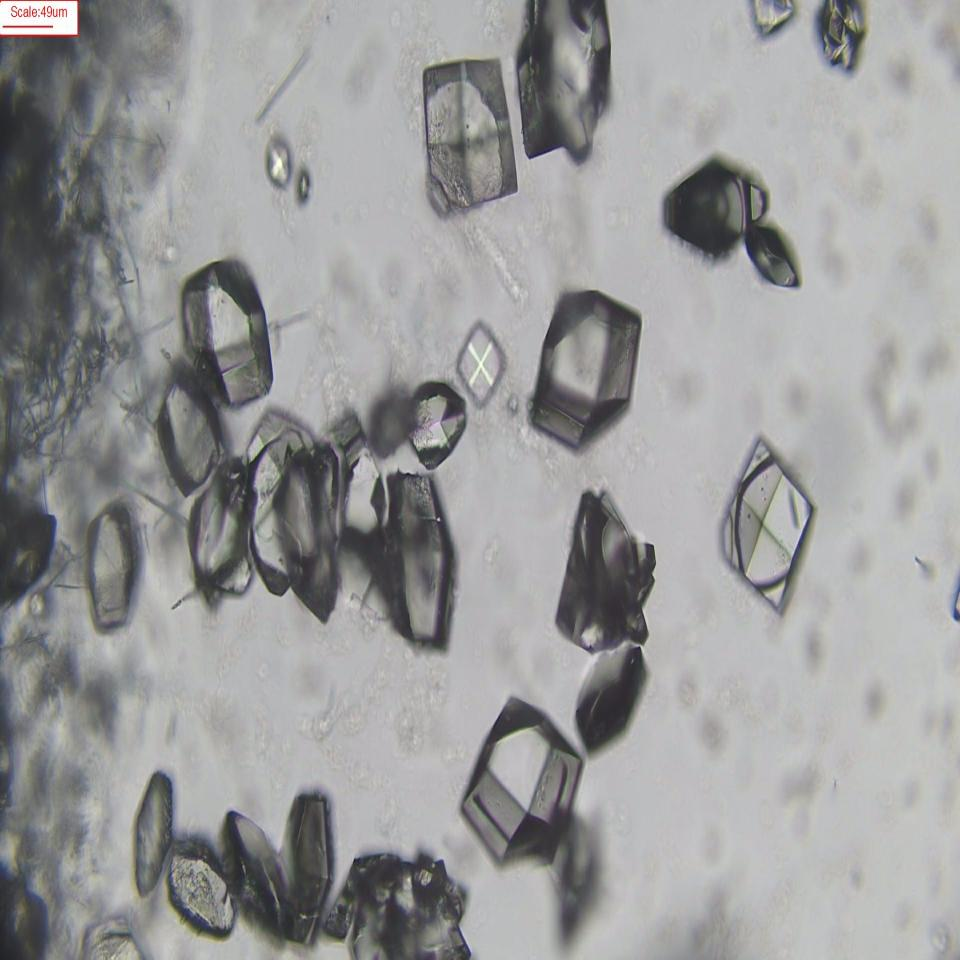crystal: (544, 473, 662, 661), (461, 697, 583, 861), (364, 462, 466, 648), (530, 288, 642, 447), (419, 57, 520, 214), (719, 434, 811, 604), (180, 264, 275, 400), (655, 149, 772, 258), (151, 372, 222, 483), (82, 507, 138, 633), (165, 845, 234, 946), (130, 763, 169, 906), (741, 219, 809, 294), (407, 385, 468, 465), (456, 324, 504, 393), (264, 137, 293, 188)
not_crystal: (197, 428, 352, 590), (518, 0, 610, 167), (329, 853, 469, 960)
